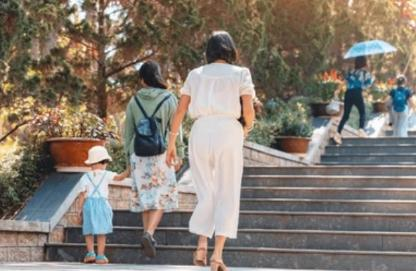person: (169, 27, 257, 271), (118, 55, 190, 262), (72, 143, 131, 263)
stair: (267, 150, 416, 271)
